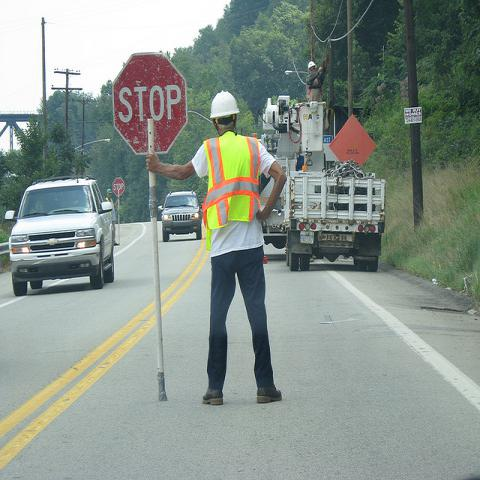car: (8, 173, 116, 301), (157, 192, 203, 242)
truck: (261, 96, 387, 270), (5, 178, 116, 293), (157, 188, 203, 242)
